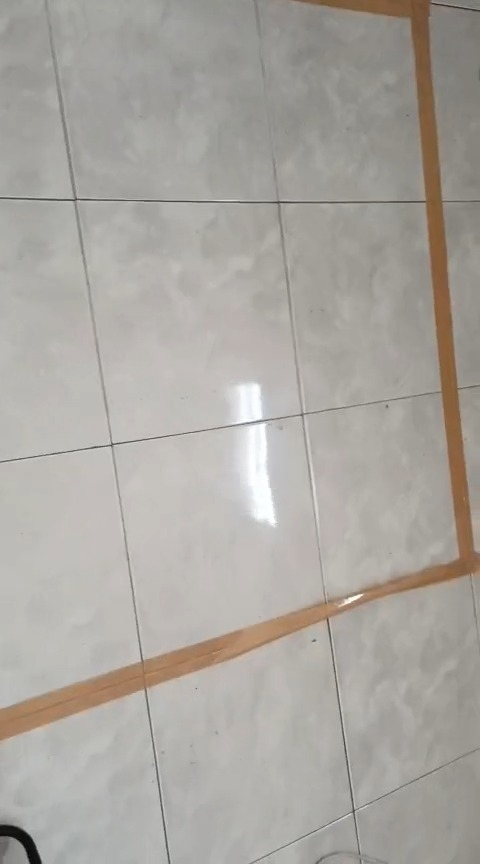floor marking: (0, 0, 479, 740)
